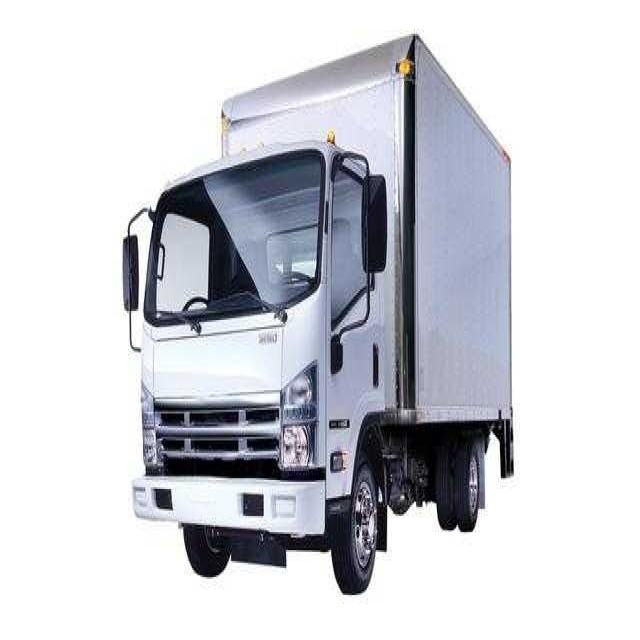Truck: (116, 21, 518, 606)
